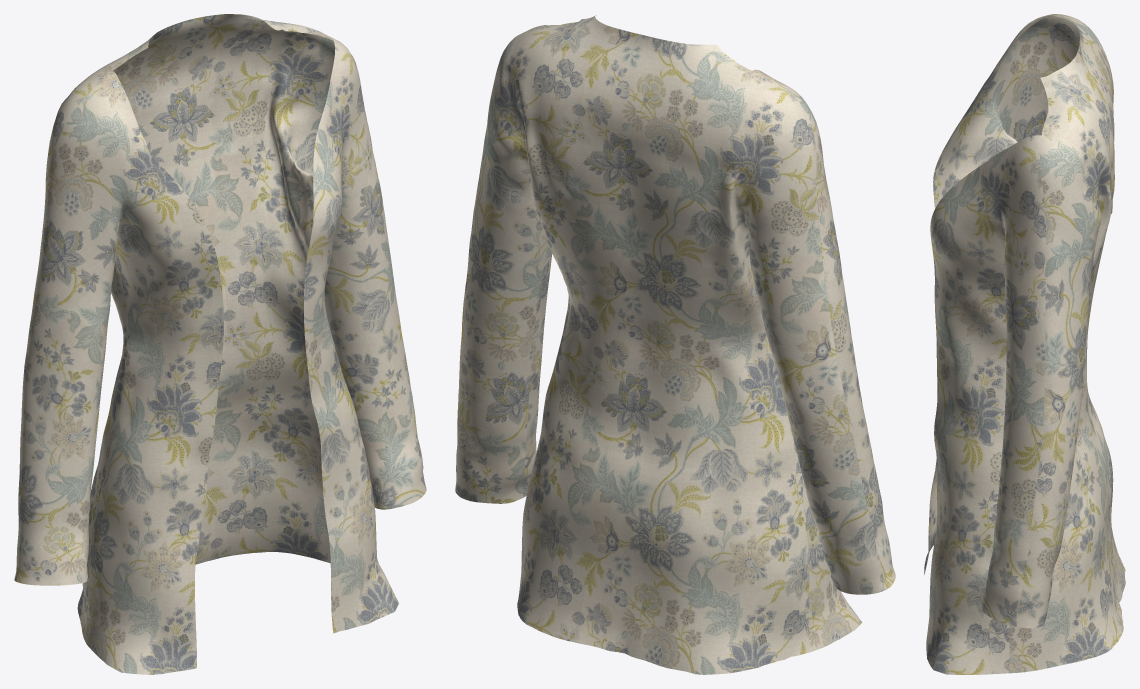
File: mid_thigh.glb
The picture shows the model from 3 angles, left to right: view 1: azimuth 30°, elevation 25°; view 2: azimuth 150°, elevation 25°; view 3: azimuth 270°, elevation 25°; orthographic projection. The views are drawn at different scales.
Parts seen in each view (by area): view 1: Short_Inner_without vents; view 2: Short_Inner_without vents; view 3: Short_Inner_without vents.
Boxes of the visible parts, bbox=[...] form: Short_Inner_without vents: bbox=[14, 14, 426, 674]; Short_Inner_without vents: bbox=[455, 15, 895, 674]; Short_Inner_without vents: bbox=[924, 14, 1125, 674].
Bounding box in the file's own units: 55.42 × 74.79 × 23.86.
1 material, 1 textured.
